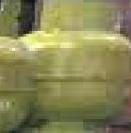cylinder: (1, 1, 131, 133)
